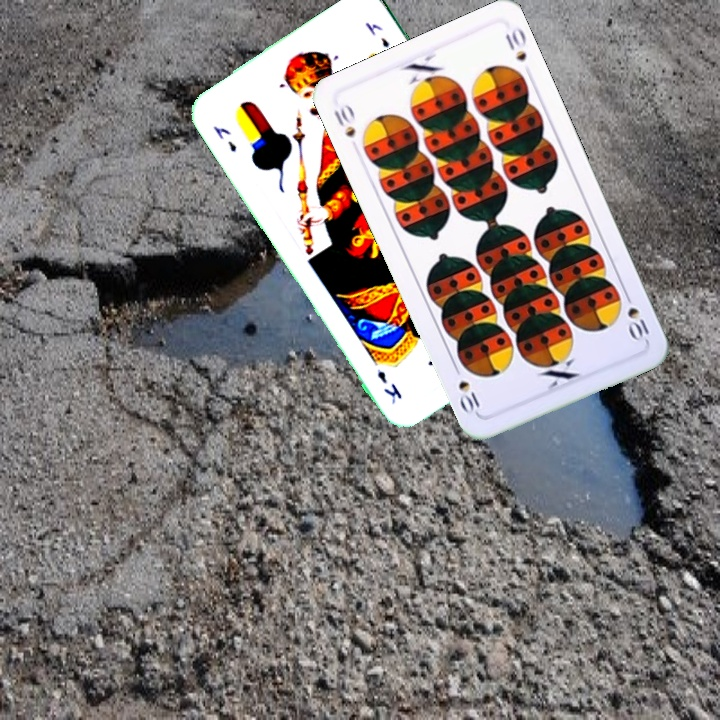EK: (208, 121, 240, 155)
S10: (620, 287, 652, 344), (330, 100, 358, 142)
